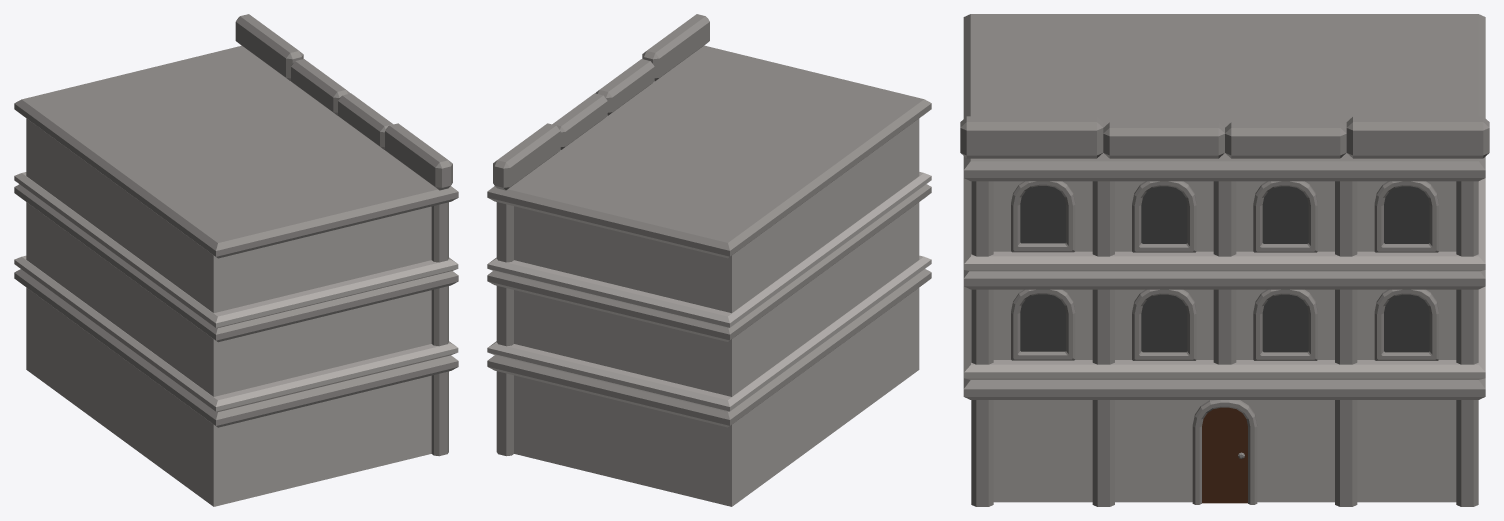
Rendered from Edi_Medio.fbx.
3 views of the same model, side by side, from view 1: azimuth 30°, elevation 25°; view 2: azimuth 150°, elevation 25°; view 3: azimuth 270°, elevation 25° (orthographic). The views are drawn at different scales.
Parts seen in each view (by area): view 1: Cube.029, Cube.030, Cube.035; view 2: Cube.029, Cube.030, Cube.035; view 3: Cube.029, Cube.030, Cube.035, Cube.063, Cube.031.
Part boxes in pixels (bbox=[...]): Cube.029: bbox=[14, 45, 458, 411]; Cube.030: bbox=[14, 269, 458, 506]; Cube.035: bbox=[235, 14, 452, 190]; Cube.029: bbox=[487, 45, 931, 411]; Cube.030: bbox=[487, 269, 931, 506]; Cube.035: bbox=[493, 14, 709, 190]; Cube.029: bbox=[963, 14, 1485, 379]; Cube.030: bbox=[963, 286, 1485, 506]; Cube.035: bbox=[960, 116, 1489, 158]; Cube.063: bbox=[1202, 407, 1247, 503]; Cube.031: bbox=[1192, 400, 1257, 504].
Bounding box in the file's own units: 3819 × 4442 × 5574.
